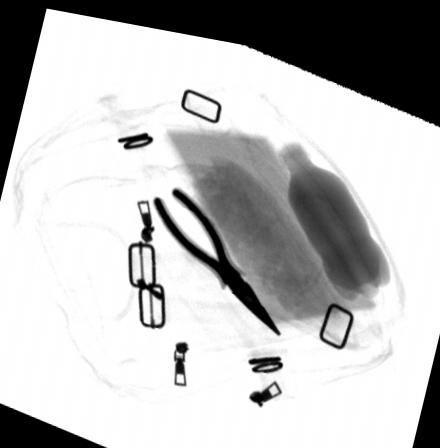Pliers: (149, 178, 284, 329)
